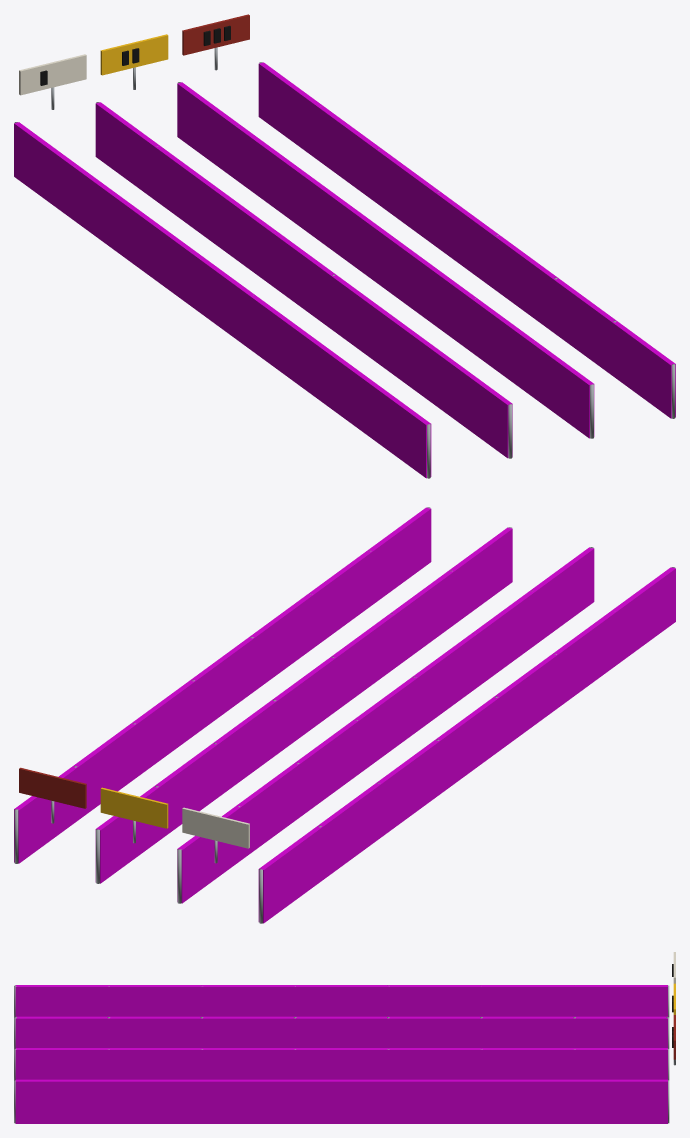
File: PRP_Queue_Rails_A.glb
3 views of the same model, one above another, from view 1: azimuth 30°, elevation 25°; view 2: azimuth 150°, elevation 25°; view 3: azimuth 270°, elevation 25° (orthographic). The views are drawn at different scales.
Visible parts, largest first — view 1: COL_Rail_0, COL_Rail_1, COL_Rail_3, COL_Rail_2, PRP_Queue_Rails_A_Mesh; view 2: COL_Rail_0, COL_Rail_1, COL_Rail_3, COL_Rail_2, PRP_Queue_Rails_A_Mesh; view 3: COL_Rail_3, COL_Rail_0, COL_Rail_2, COL_Rail_1, PRP_Queue_Rails_A_Mesh.
Boxes of the visible parts, left/top/right/bottom form: COL_Rail_0: left=14, top=122, right=431, bottom=478; COL_Rail_1: left=95, top=102, right=512, bottom=458; COL_Rail_3: left=258, top=62, right=675, bottom=418; COL_Rail_2: left=177, top=82, right=594, bottom=438; PRP_Queue_Rails_A_Mesh: left=14, top=14, right=675, bottom=478; COL_Rail_0: left=258, top=567, right=675, bottom=923; COL_Rail_1: left=177, top=547, right=594, bottom=903; COL_Rail_3: left=14, top=507, right=431, bottom=863; COL_Rail_2: left=95, top=527, right=512, bottom=883; PRP_Queue_Rails_A_Mesh: left=14, top=507, right=675, bottom=923; COL_Rail_3: left=15, top=1079, right=667, bottom=1123; COL_Rail_0: left=15, top=985, right=667, bottom=1016; COL_Rail_2: left=15, top=1048, right=667, bottom=1079; COL_Rail_1: left=15, top=1016, right=667, bottom=1047; PRP_Queue_Rails_A_Mesh: left=14, top=952, right=675, bottom=1123.
Size of the model in its own units: 4.9 by 1.88 by 14.21.
